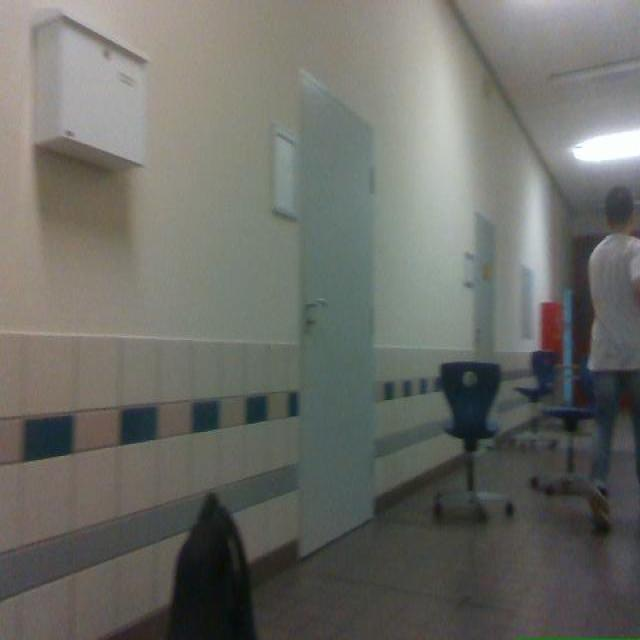humans: (589, 187, 639, 530)
objects: (168, 494, 255, 639), (433, 362, 513, 517), (530, 364, 594, 495), (507, 350, 557, 449)
